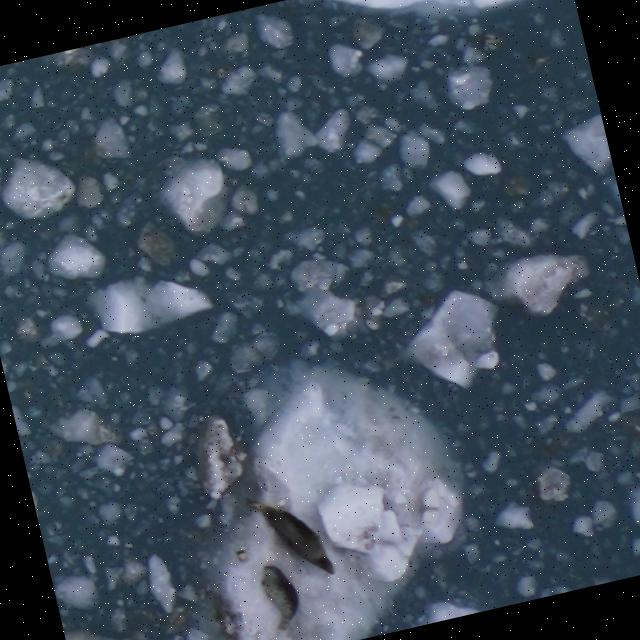seal: (242, 482, 338, 593), (255, 557, 308, 637)
